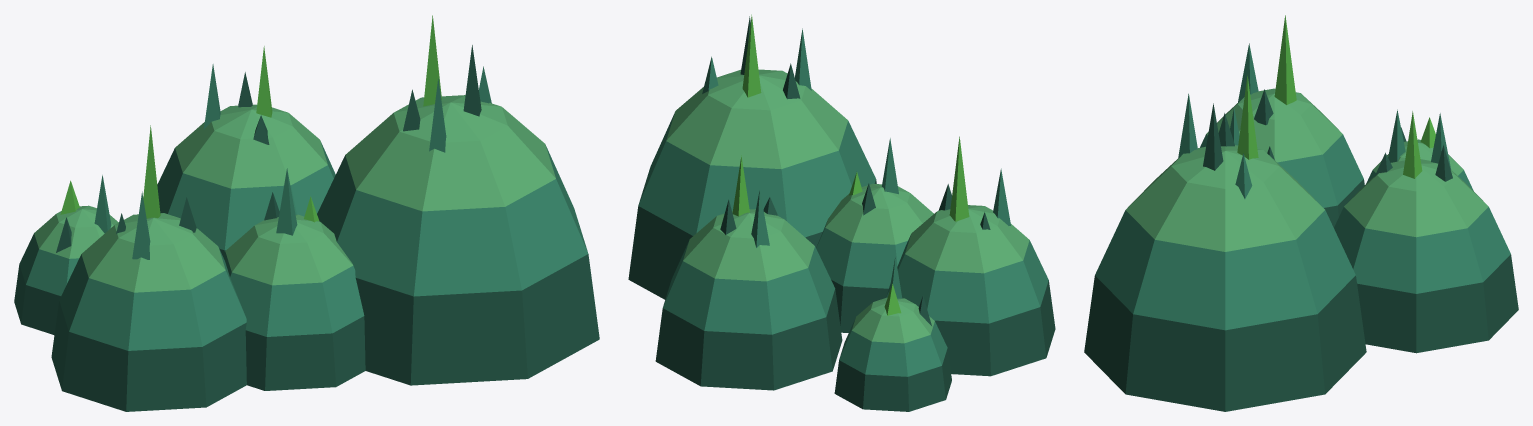
Rendered from xForest.fbx.
3 views of the same model, side by side, from view 1: azimuth 30°, elevation 25°; view 2: azimuth 150°, elevation 25°; view 3: azimuth 270°, elevation 25° (orthographic). The views are drawn at different scales.
Visible parts, largest first — view 1: Sphere.014, Sphere.008, Sphere.012, Sphere.010, Sphere.006, Cone.005, Cone.019, Cone.014, Cone.021, Cone.010, Cone.022, Cone.015 (+2 smaller); view 2: Sphere.014, Sphere.010, Sphere.008, Sphere.006, Sphere.012, Cone.005, Cone.019, Cone.017, Cone.015, Cone.021, Cone.014, Cone.010; view 3: Sphere.014, Sphere.010, Sphere.008, Cone.005, Cone.019, Cone.022, Cone.015, Sphere.006, Cone.021, Cone.010, Cone.004, Cone.017 (+2 smaller).
Boxes of the visible parts, x1,y1,x2,y2 form: Sphere.014: (317, 95, 599, 385); Sphere.008: (51, 213, 246, 411); Sphere.012: (223, 214, 365, 390); Sphere.010: (157, 104, 335, 255); Sphere.006: (14, 205, 118, 334); Cone.005: (143, 125, 160, 218); Cone.019: (423, 15, 441, 106); Cone.014: (276, 168, 297, 235); Cone.021: (429, 78, 446, 152); Cone.010: (132, 191, 150, 259); Cone.022: (463, 45, 481, 116); Cone.015: (256, 46, 272, 117); Sphere.014: (628, 69, 876, 299); Sphere.010: (655, 209, 842, 390); Sphere.008: (886, 205, 1055, 376); Sphere.006: (834, 297, 951, 411); Sphere.012: (816, 183, 933, 332); Cone.005: (949, 136, 969, 221); Cone.019: (742, 14, 761, 97); Cone.017: (751, 189, 769, 247); Cone.015: (732, 155, 749, 216); Cone.021: (795, 28, 811, 90); Cone.014: (882, 138, 898, 194); Cone.010: (993, 168, 1010, 225); Sphere.014: (1084, 145, 1366, 411); Sphere.010: (1334, 159, 1518, 353); Sphere.008: (1200, 88, 1364, 227); Cone.005: (1274, 15, 1296, 104); Cone.019: (1237, 75, 1258, 159); Cone.022: (1203, 103, 1223, 170); Cone.015: (1403, 111, 1422, 178); Sphere.006: (1366, 139, 1473, 190); Cone.021: (1178, 93, 1197, 158); Cone.010: (1238, 43, 1258, 102); Cone.004: (1388, 109, 1405, 162); Cone.017: (1431, 113, 1451, 169).
Size of the model in its own units: 27688 by 16079 by 22990.
